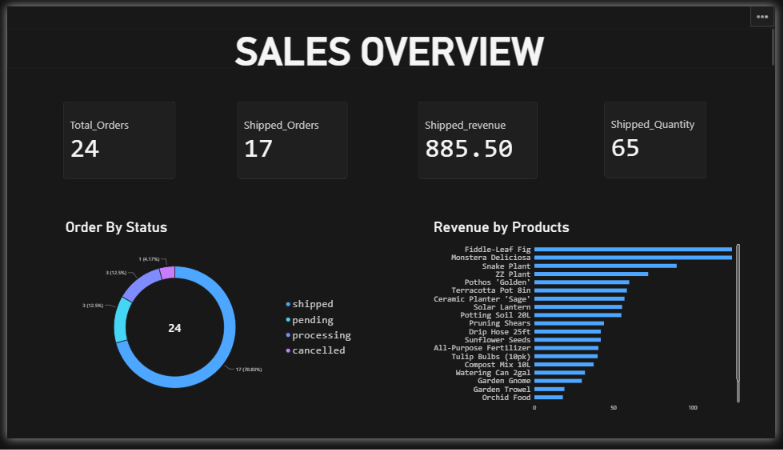

The dashboard page shown, as its layout file describes it:
{"tool":"powerbi","page":{"name":"Sales","canvas":[1920,1080],"ordinal":0},"visuals":[{"type":"cardVisual","fields":{"Data":["ecommerce_analysis orders.Total_Orders"]},"box":[140.6,236.7,281.8,194.5],"z":0},{"type":"cardVisual","fields":{"Data":["ecommerce_analysis orders.Shipped_Orders"]},"box":[575,237.5,276.4,194.5],"z":1000},{"type":"cardVisual","fields":{"Data":["ecommerce_analysis orders.Shipped_Quantity"]},"box":[1491.5,238.5,256.4,192.7],"z":2000},{"type":"cardVisual","fields":{"Data":["ecommerce_analysis orders.Shipped_revenue"]},"box":[1027.5,237.5,298.2,194.5],"z":3000},{"type":"donutChart","title":"Order By Status","fields":{"Category":["ecommerce_analysis orders.status"],"Y":["CountNonNull(ecommerce_analysis orders.order_id)"]},"box":[130.6,514.3,755.1,518.4],"z":4000},{"type":"clusteredBarChart","title":"Revenue by Products","fields":{"Category":["ecommerce_analysis products.product_name"],"Y":["ecommerce_analysis orders.Total_Revenue"]},"box":[1051,514.3,798,518.4],"z":5000},{"type":"textbox","box":[0,55,1920,100],"z":6000}]}

Visuals, with their boxes in screenshot pixels (x1, y1, x2, y2), scaled from the page's 1920x1080 canvas onto the 783x450 screenshot:
cardVisual - ecommerce_analysis orders.Total_Orders: [57, 99, 172, 180]
cardVisual - ecommerce_analysis orders.Shipped_Orders: [234, 99, 347, 180]
cardVisual - ecommerce_analysis orders.Shipped_Quantity: [608, 99, 713, 180]
cardVisual - ecommerce_analysis orders.Shipped_revenue: [419, 99, 541, 180]
"Order By Status" donutChart: [53, 214, 361, 430]
"Revenue by Products" clusteredBarChart: [429, 214, 754, 430]
textbox: [0, 23, 782, 65]
